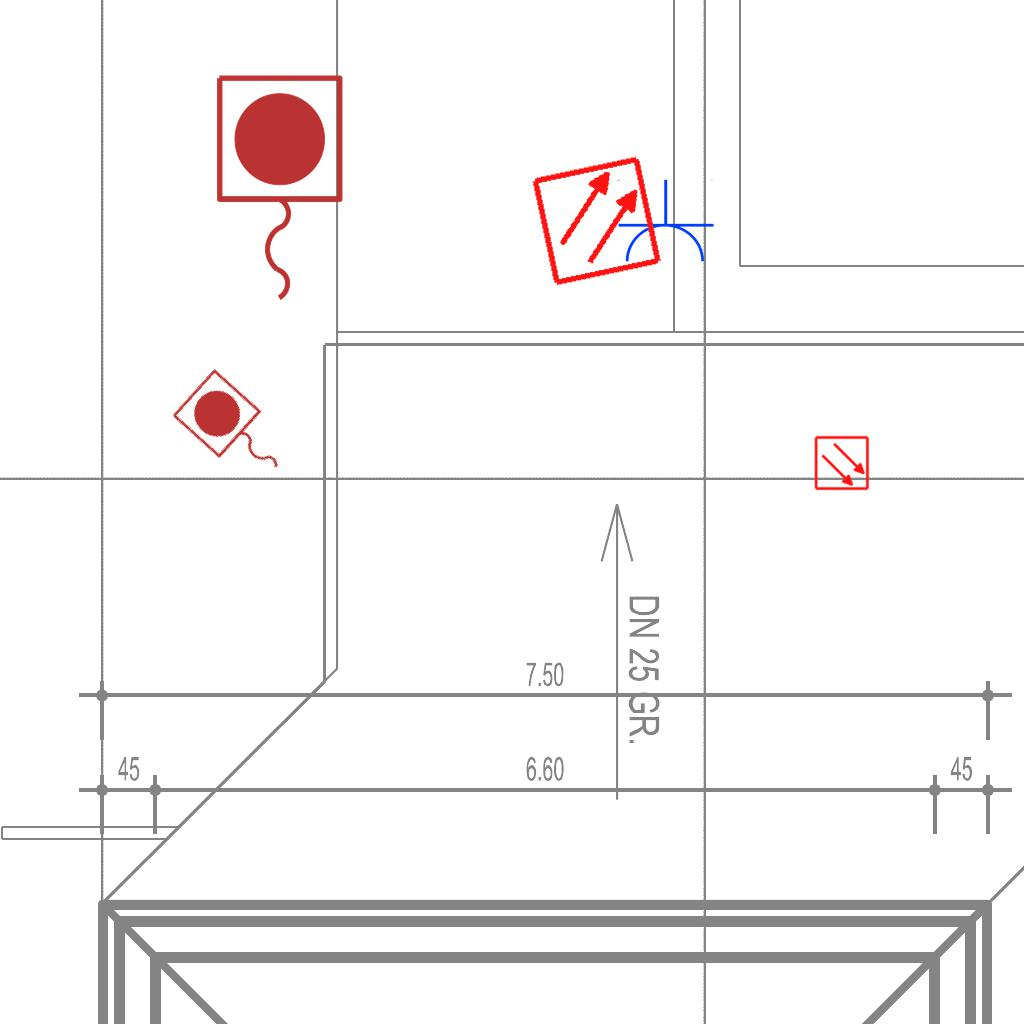RMO_Rauchmelder_optischer: (529, 153, 664, 288), (814, 435, 870, 491)
Schukosteckdose_einfach: (615, 179, 715, 266)
Zugtaster: (206, 67, 350, 311), (165, 363, 305, 499)
